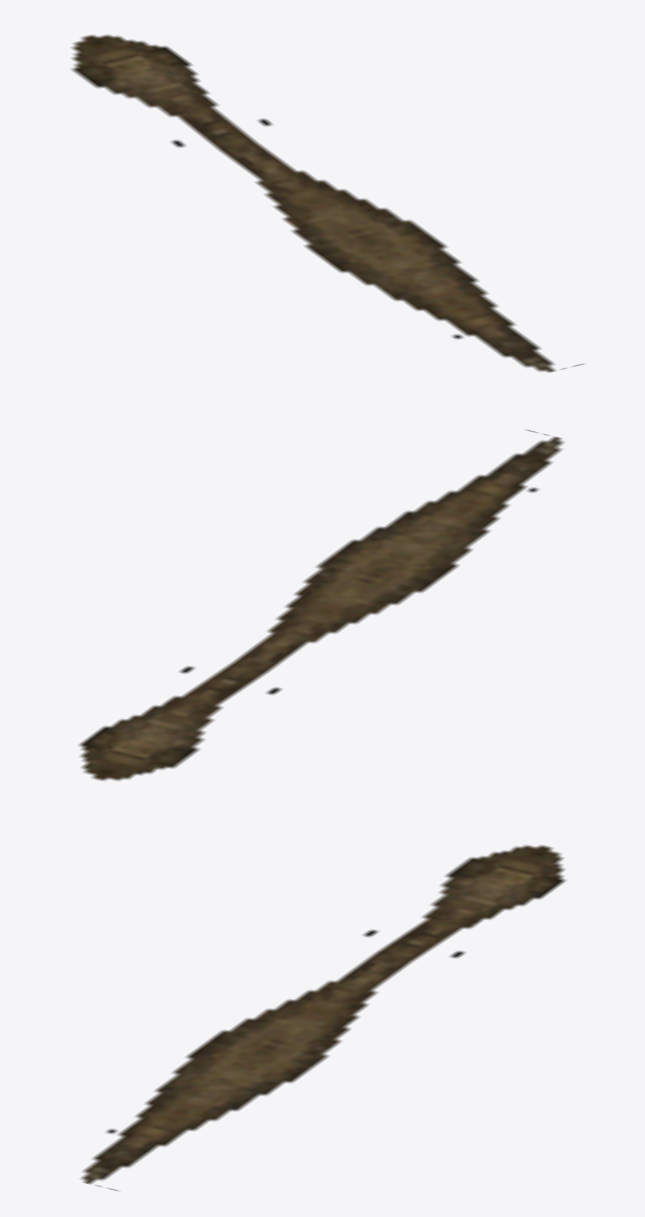
File: hjjd.hrc.gltf
The picture shows the model from 3 angles, top to bottom: view 1: azimuth 30°, elevation 25°; view 2: azimuth 150°, elevation 25°; view 3: azimuth 330°, elevation 25°; orthographic projection.
Visible parts, largest first — view 1: hjjdBone0_null; view 2: hjjdBone0_null; view 3: hjjdBone0_null.
Part boxes in pixels (<box>): hjjdBone0_null: <box>71,34,583,372</box>; hjjdBone0_null: <box>79,430,564,780</box>; hjjdBone0_null: <box>80,845,565,1190</box>.
Size of the model in its own units: 26.39 by 0.4341 by 142.
1 material, 1 textured.
